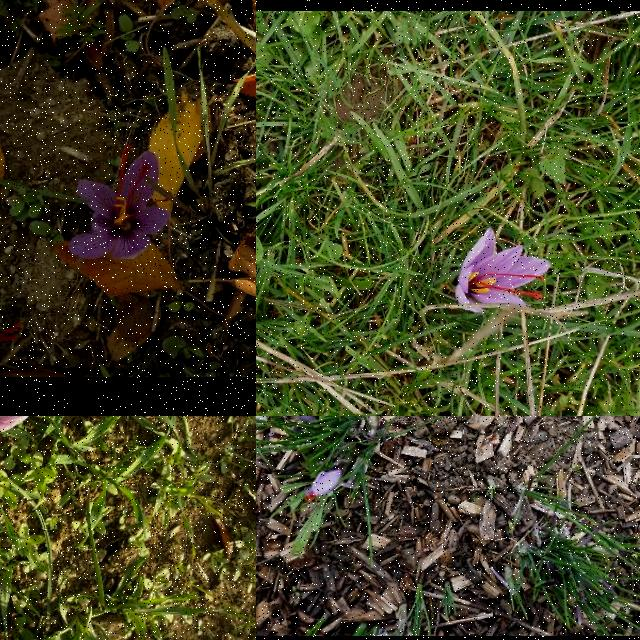flower: (67, 144, 171, 262), (456, 228, 552, 312), (0, 416, 35, 476), (304, 471, 342, 504), (293, 416, 316, 423)
